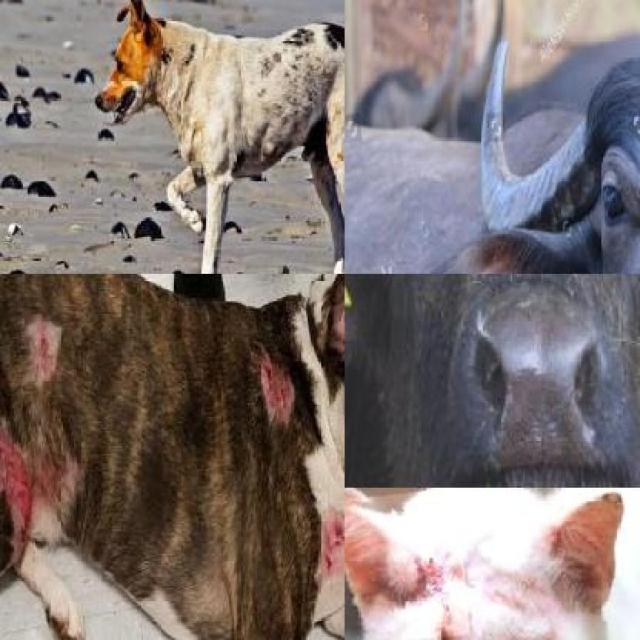buffalo: (344, 55, 640, 273), (344, 274, 640, 488)
cat: (344, 487, 640, 640)
dog: (0, 274, 345, 640), (92, 0, 345, 274)
injured: (344, 487, 469, 640), (140, 144, 225, 239), (0, 431, 57, 562), (316, 502, 344, 606), (32, 302, 58, 406), (258, 355, 296, 423)
